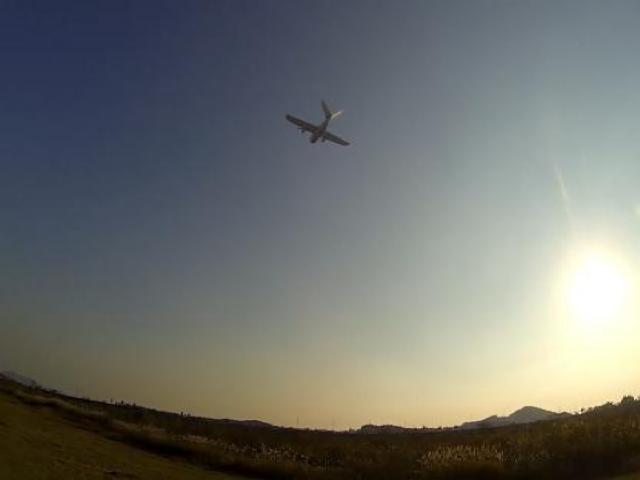uav: (281, 90, 354, 158)
